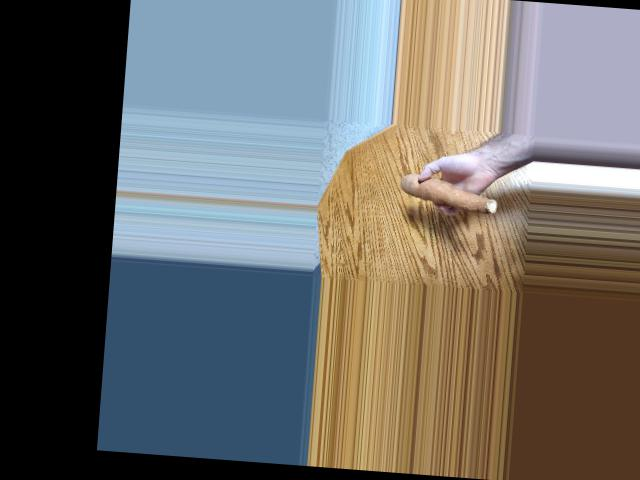sweet_potato: (393, 179, 502, 212)
